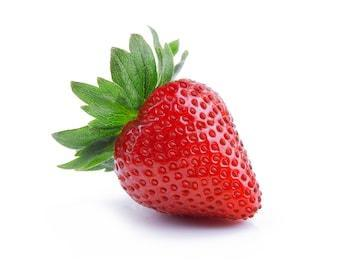Fresa: (107, 73, 267, 233)
